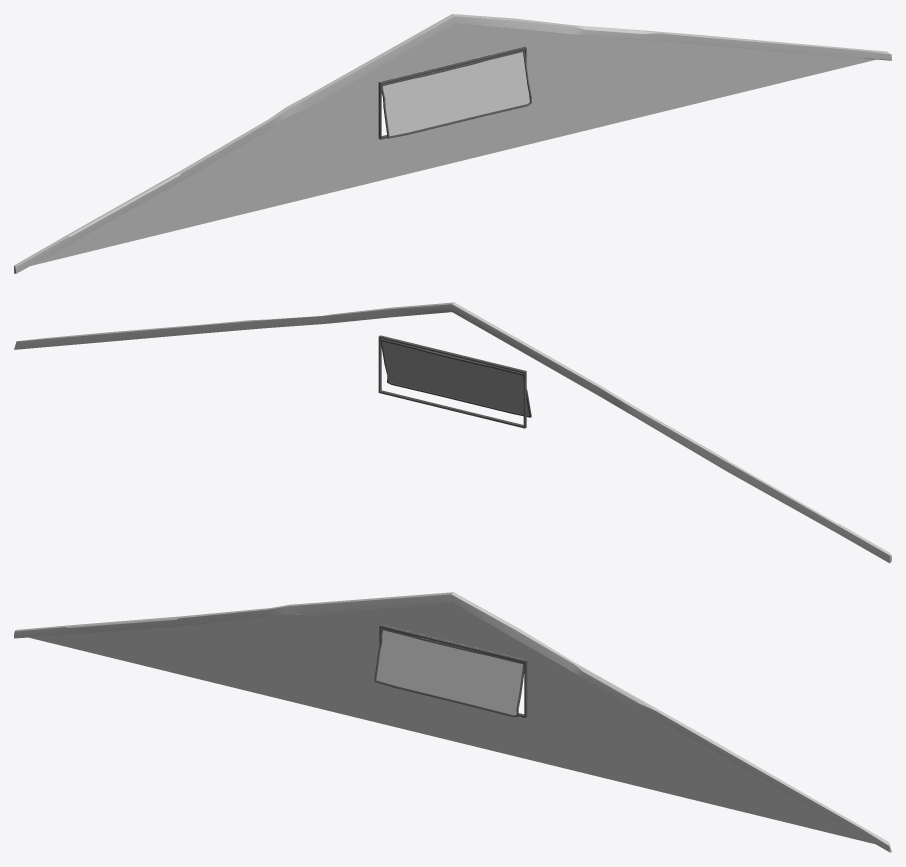
Rendered from SM_roof_support.gltf.
3 views of the same model, one above another, from view 1: azimuth 30°, elevation 25°; view 2: azimuth 150°, elevation 25°; view 3: azimuth 330°, elevation 25° (orthographic).
Parts seen in each view (by area): view 1: SM_roof_support; view 2: SM_roof_support; view 3: SM_roof_support.
Boxes of the visible parts, <box> form: SM_roof_support: <box>14,14,891,273</box>; SM_roof_support: <box>14,302,891,563</box>; SM_roof_support: <box>14,592,891,852</box>.
Size of the model in its own units: 12 by 2 by 0.213.
